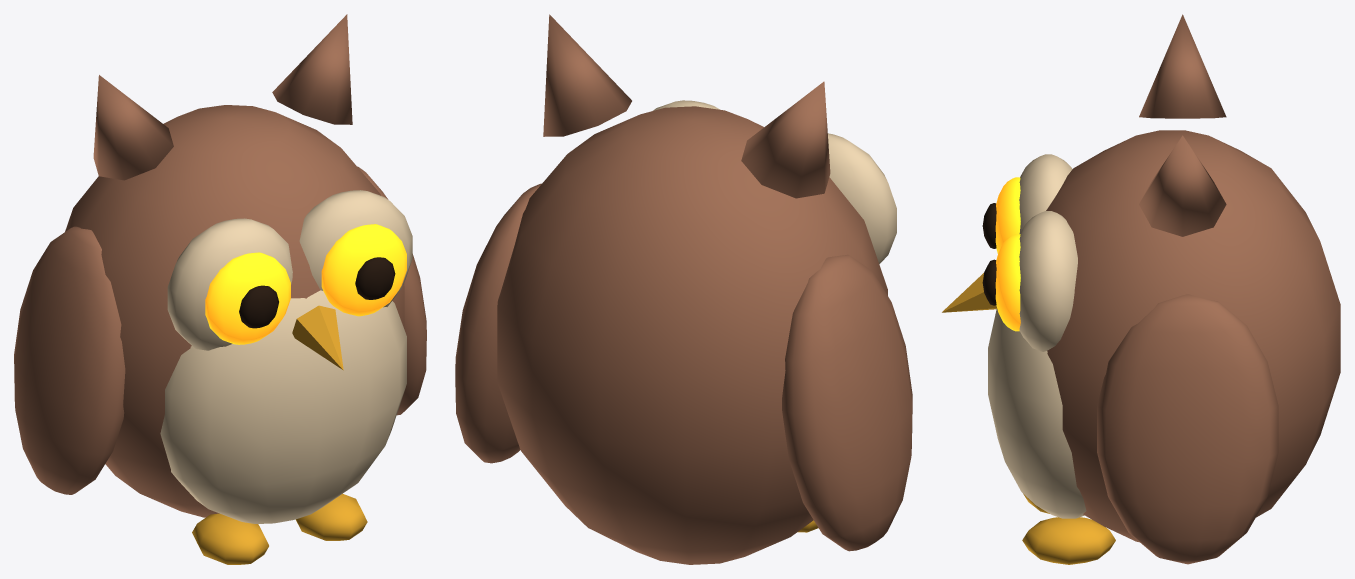
File: Buho.fbx
3 views of the same model, side by side, from view 1: azimuth 30°, elevation 25°; view 2: azimuth 150°, elevation 25°; view 3: azimuth 270°, elevation 25° (orthographic). The views are drawn at different scales.
Parts seen in each view (by area): view 1: Kit_Buho; view 2: Kit_Buho; view 3: Kit_Buho.
Boxes of the visible parts, x1=… form: Kit_Buho: x1=14, y1=14, x2=426, y2=564; Kit_Buho: x1=455, y1=14, x2=912, y2=564; Kit_Buho: x1=942, y1=14, x2=1340, y2=564.
Size of the model in its own units: 0.834 by 0.9862 by 0.774.
